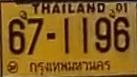1: (82, 17, 88, 54), (63, 18, 69, 55)
6: (113, 16, 130, 53), (8, 19, 25, 54)
7: (27, 17, 43, 54)
9: (94, 16, 112, 54)
BKK: (26, 58, 112, 74)
